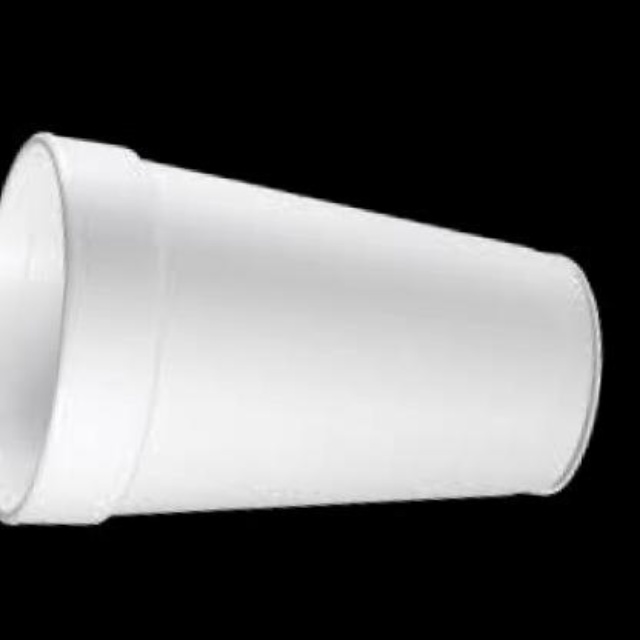trash: (0, 134, 600, 522)
